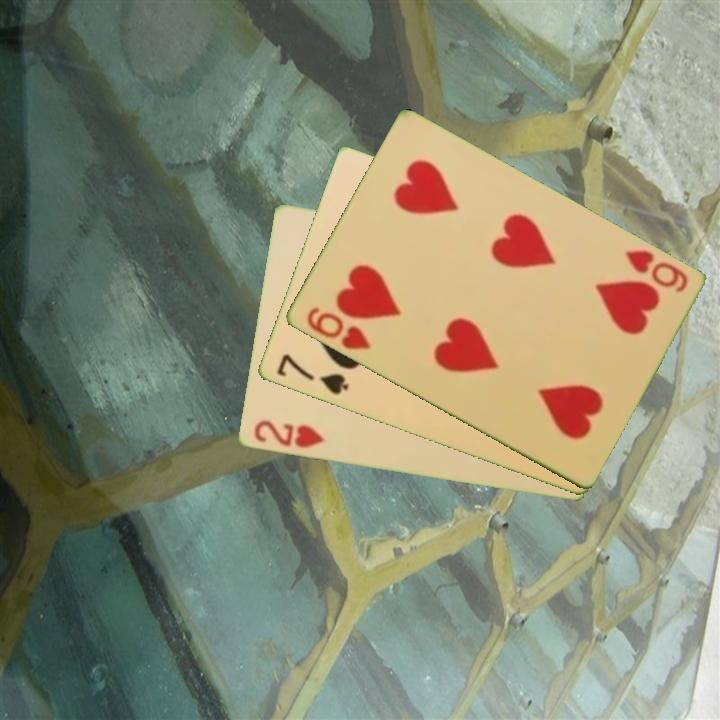2h: (250, 417, 326, 451)
6h: (302, 303, 373, 353), (621, 246, 690, 296)
7s: (272, 350, 352, 398)
